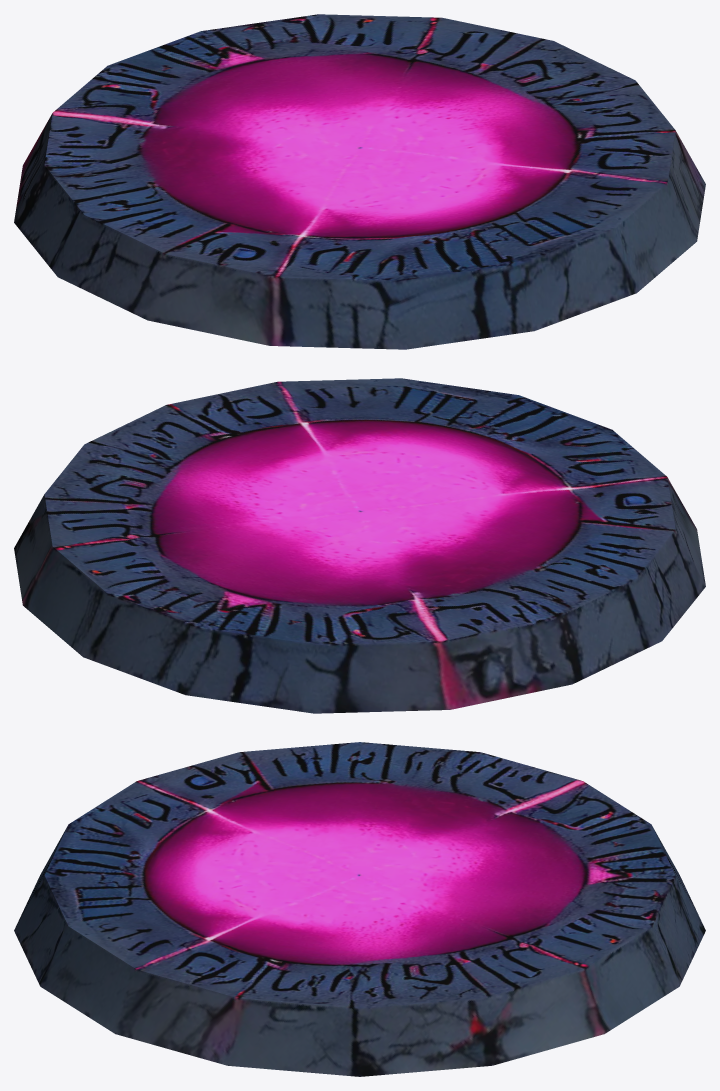
File: approach-stone-4-generated-2026-05-14T23-54-49-347Z.high.glb
The picture shows the model from 3 angles, top to bottom: view 1: azimuth 30°, elevation 25°; view 2: azimuth 150°, elevation 25°; view 3: azimuth 270°, elevation 25°; orthographic projection.
Parts seen in each view (by area): view 1: GLTF; view 2: GLTF; view 3: GLTF.
Boxes of the visible parts, x1=… form: GLTF: x1=14, y1=14, x2=705, y2=349; GLTF: x1=14, y1=378, x2=705, y2=713; GLTF: x1=14, y1=742, x2=705, y2=1076.
Bounding box in the file's own units: 18.73 × 1.65 × 18.73.
Materials: 1 (1 with a texture image).
